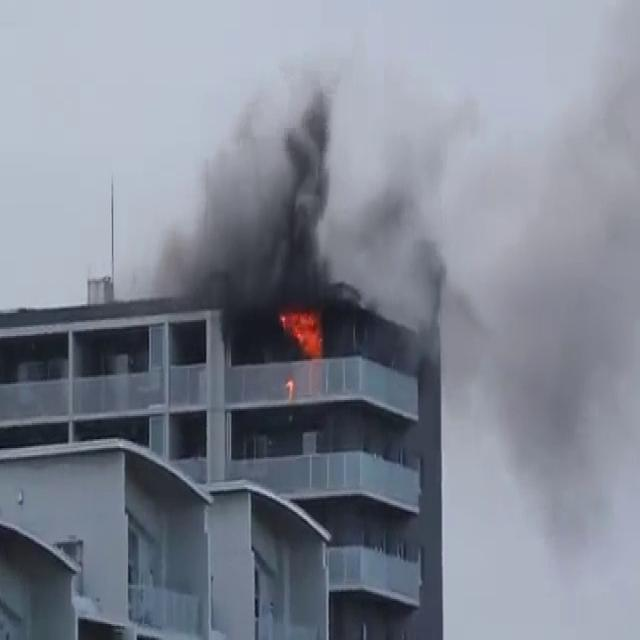Fire: (277, 298, 328, 360)
Smoke: (404, 5, 640, 633), (164, 47, 352, 364)
